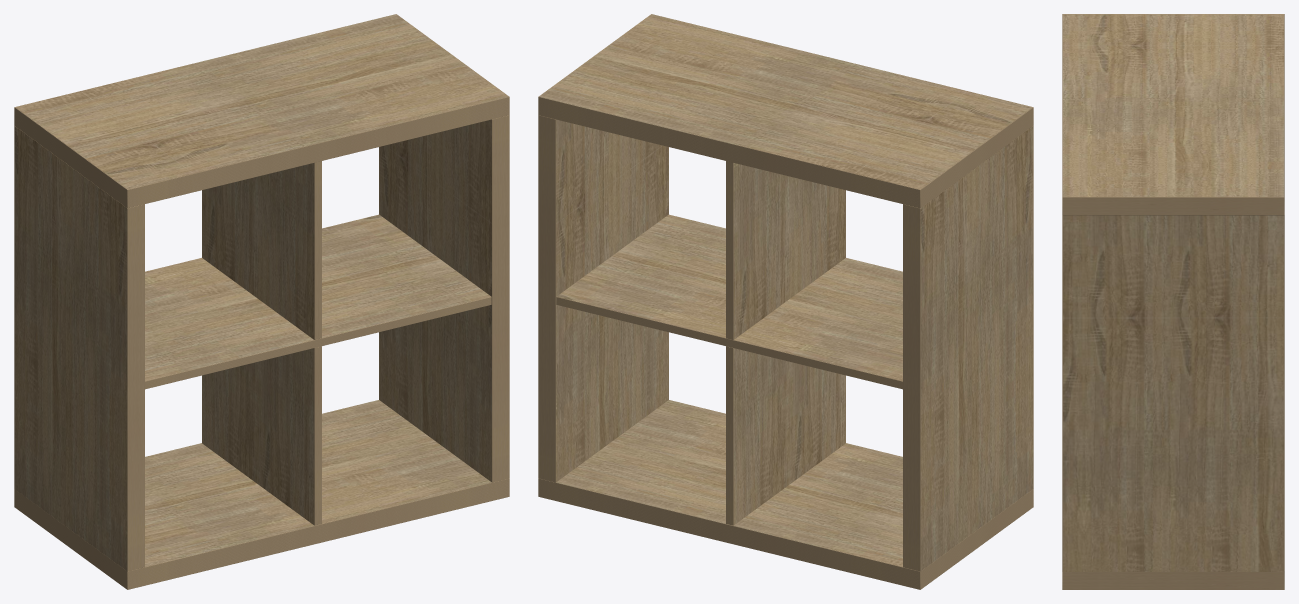
The picture shows the model from 3 angles, left to right: view 1: azimuth 30°, elevation 25°; view 2: azimuth 150°, elevation 25°; view 3: azimuth 270°, elevation 25°; orthographic projection.
Visible parts, largest first — view 1: 01641-Oak, 01641-Oak_Edging (×3); view 2: 01641-Oak, 01641-Oak_Edging (×3); view 3: 01641-Oak, 01641-Oak_Edging (×2).
Part boxes in pixels (box(x1,y1,x2,y2)): 01641-Oak: box(14, 14, 508, 570); 01641-Oak_Edging (×3): box(14, 14, 509, 589); 01641-Oak: box(539, 14, 1033, 570); 01641-Oak_Edging (×3): box(538, 14, 1033, 589); 01641-Oak: box(1063, 14, 1283, 571); 01641-Oak_Edging (×2): box(1062, 14, 1284, 589).
Size of the model in its own units: 0.76 by 0.76 by 0.39.
Materials: 2 (2 with a texture image).
